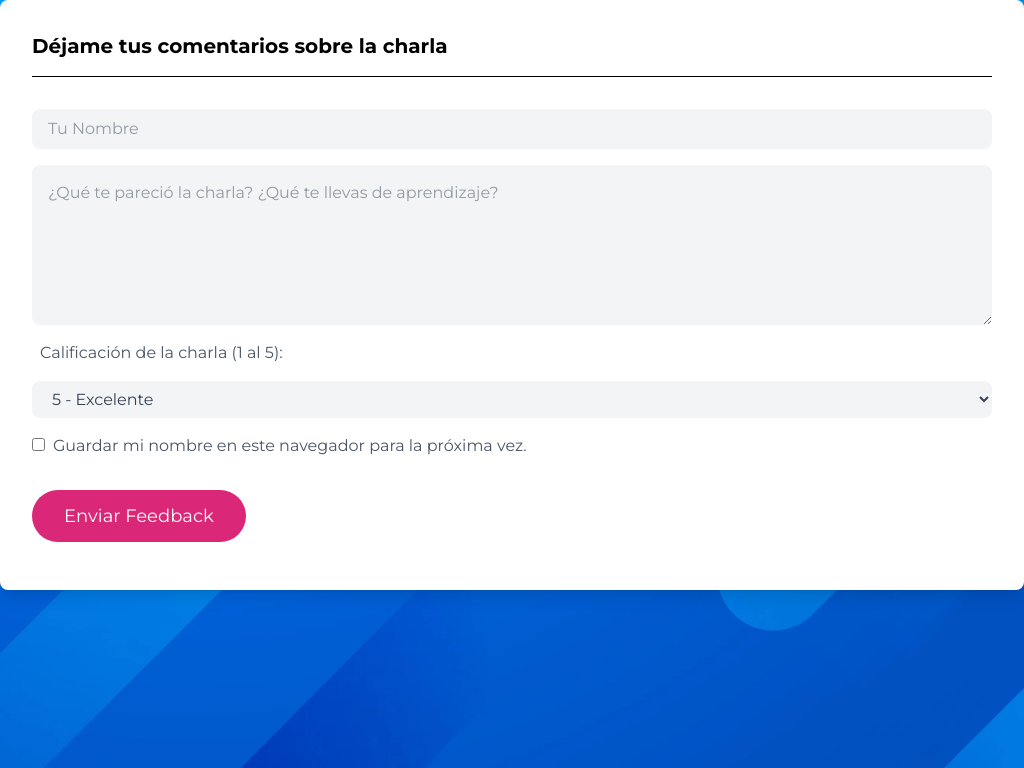
it: ConferenceFeedbackForm › shows a generic error message when the submission rejects
This screenshot has width=1024, height=768.
Type "Ada" into the field with placeholder "Tu Nombre" at point(512, 129), box [32,109,992,149]
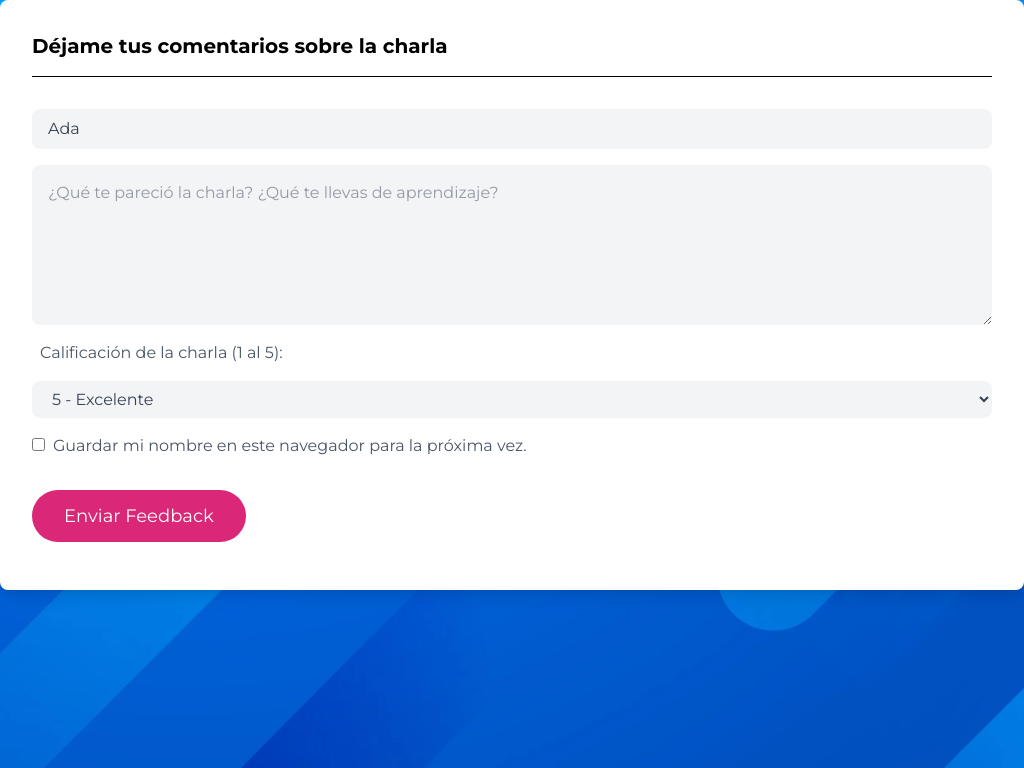
Type "Great talk!" into the text box with placeholder "¿Qué te pareció la charla? ¿Qué te llevas de aprendizaje?" at point(512, 245), box [32,165,992,325]
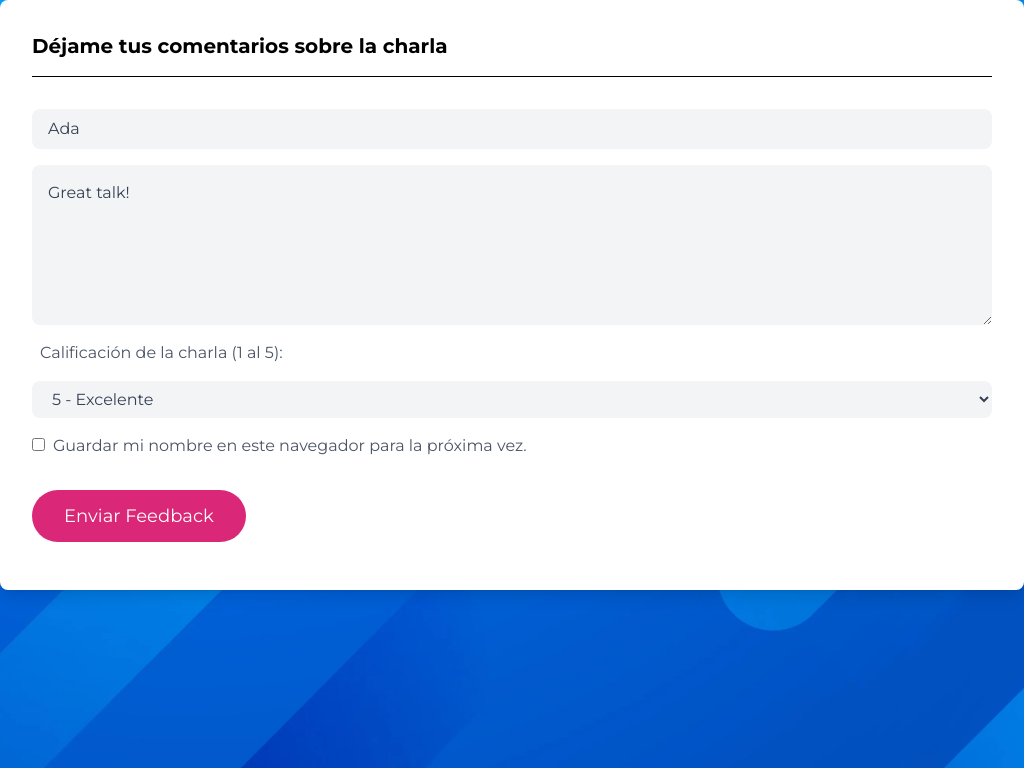
Click the button "Enviar Feedback" at point(139, 516), box [32,490,246,542]
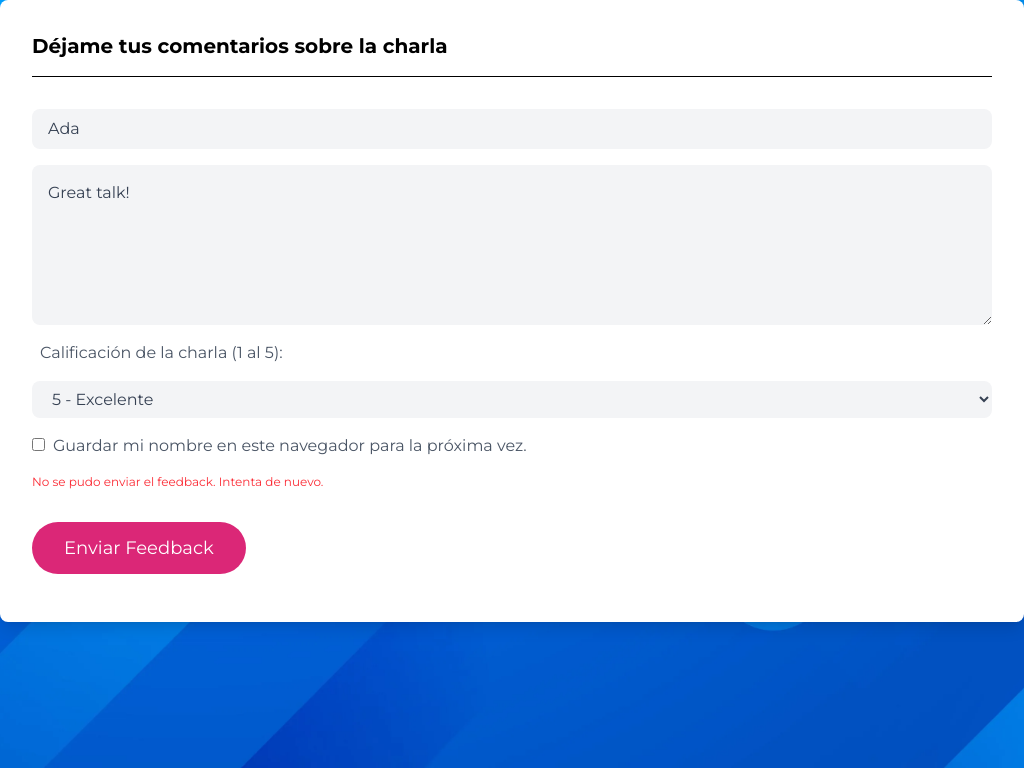
Expected: the text "No se pudo enviar el feedback. Intenta de nuevo." is shown, [32,474,323,489]
